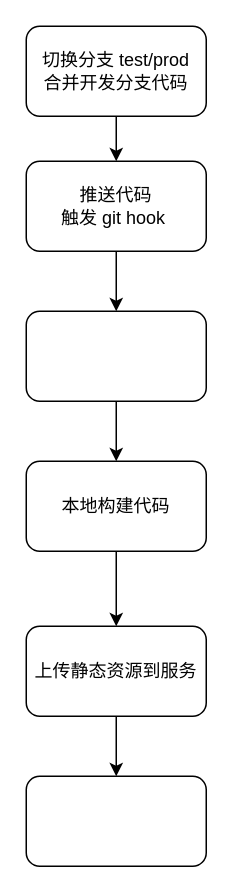
Some shapes in this 233 by 893 pixel diagram are drawn without their labels. Here are the shapes that lost their labels. From the top down, the centre of each, then its label:
At (115,355): "执行 shell 脚本 分支检查 执行 npm script 脚本".
At (115,820): "同步代码到 git 仓库".
